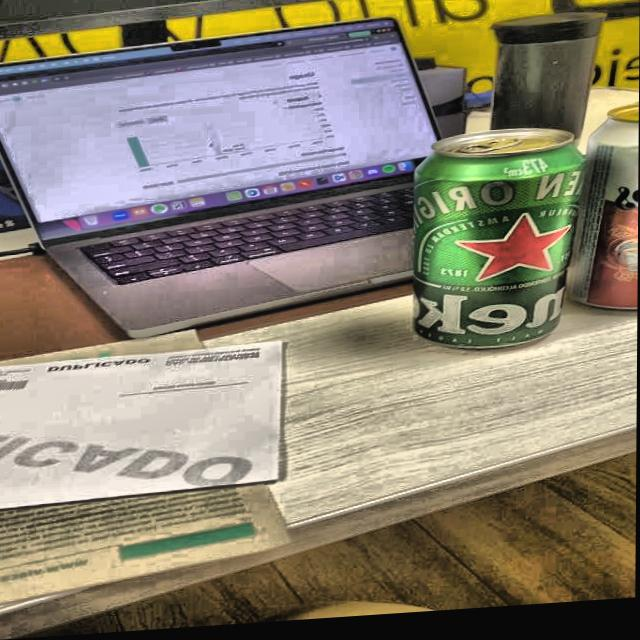can: (407, 124, 585, 365), (567, 111, 639, 326)
